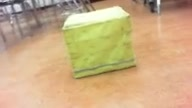cube: (61, 5, 137, 79)
